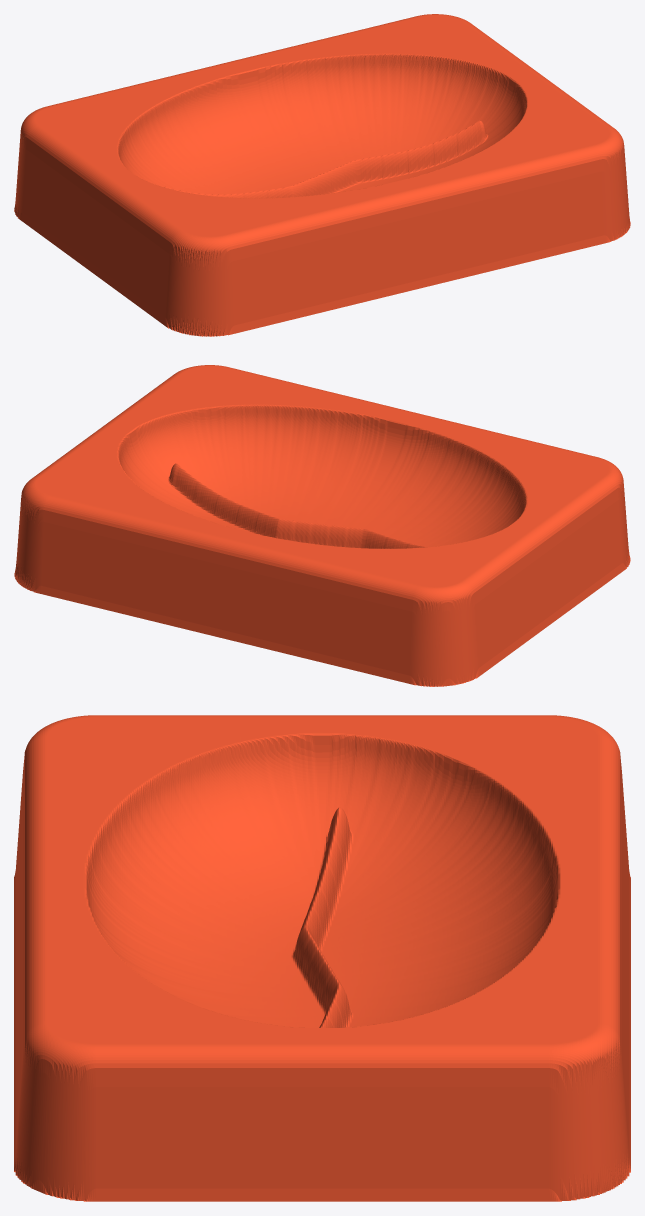
File: mold.glb
3 renders of one model, top to bottom at view 1: azimuth 30°, elevation 25°; view 2: azimuth 150°, elevation 25°; view 3: azimuth 270°, elevation 25°, orthographic. The views are drawn at different scales.
Visible parts, largest first — view 1: geometry_0; view 2: geometry_0; view 3: geometry_0.
Part boxes in pixels (x1,y1,x2,y2): geometry_0: [14, 14, 630, 336]; geometry_0: [14, 365, 630, 686]; geometry_0: [14, 715, 630, 1201].
Size of the model in its own units: 0.0924 by 0.0175 by 0.068.
